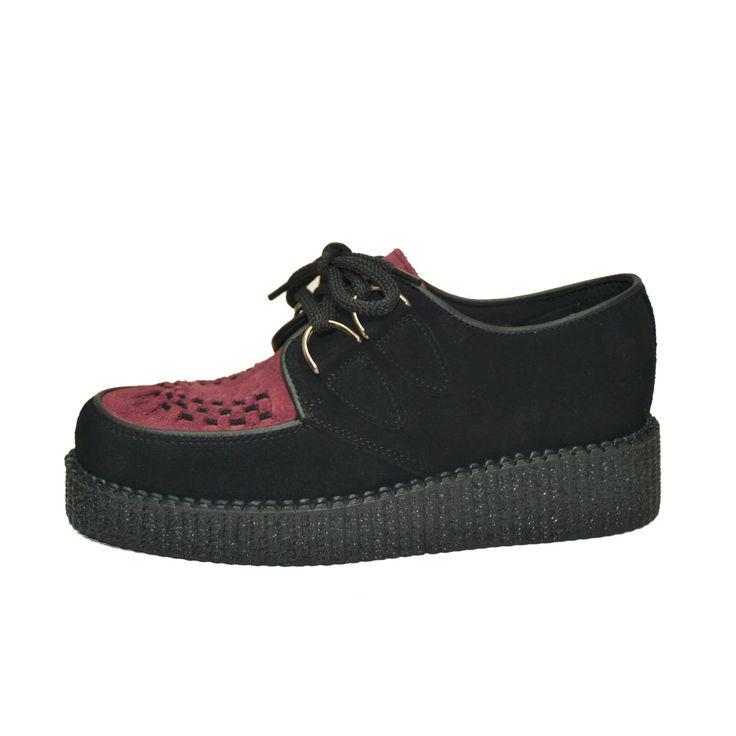gamuza: (74, 250, 657, 498)
